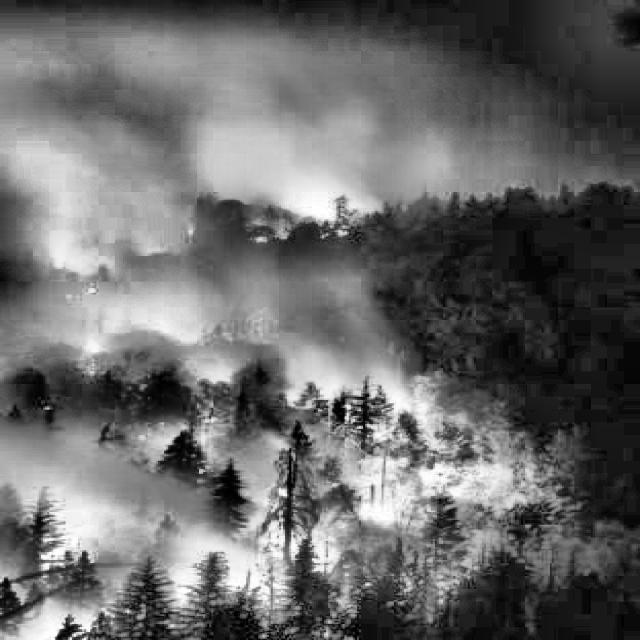fire: (5, 25, 540, 640)
